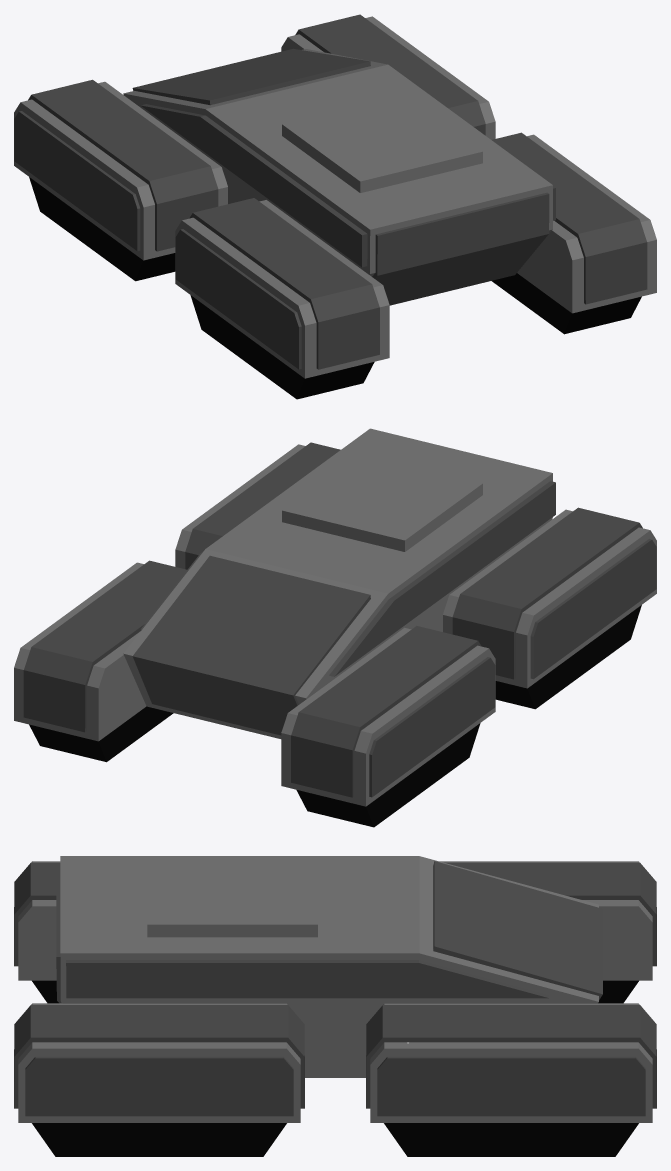
The model's file is HeavyTrack.fbx.
3 views of the same model, one above another, from view 1: azimuth 30°, elevation 25°; view 2: azimuth 150°, elevation 25°; view 3: azimuth 270°, elevation 25° (orthographic). The views are drawn at different scales.
Parts seen in each view (by area): view 1: Cube; view 2: Cube; view 3: Cube.
Boxes of the visible parts, x1,y1,x2,y2 form: Cube: (14,14,656,399); Cube: (14,428,656,827); Cube: (14,856,656,1156).
Size of the model in its own units: 321 by 138 by 458.
1 material, 1 textured.
